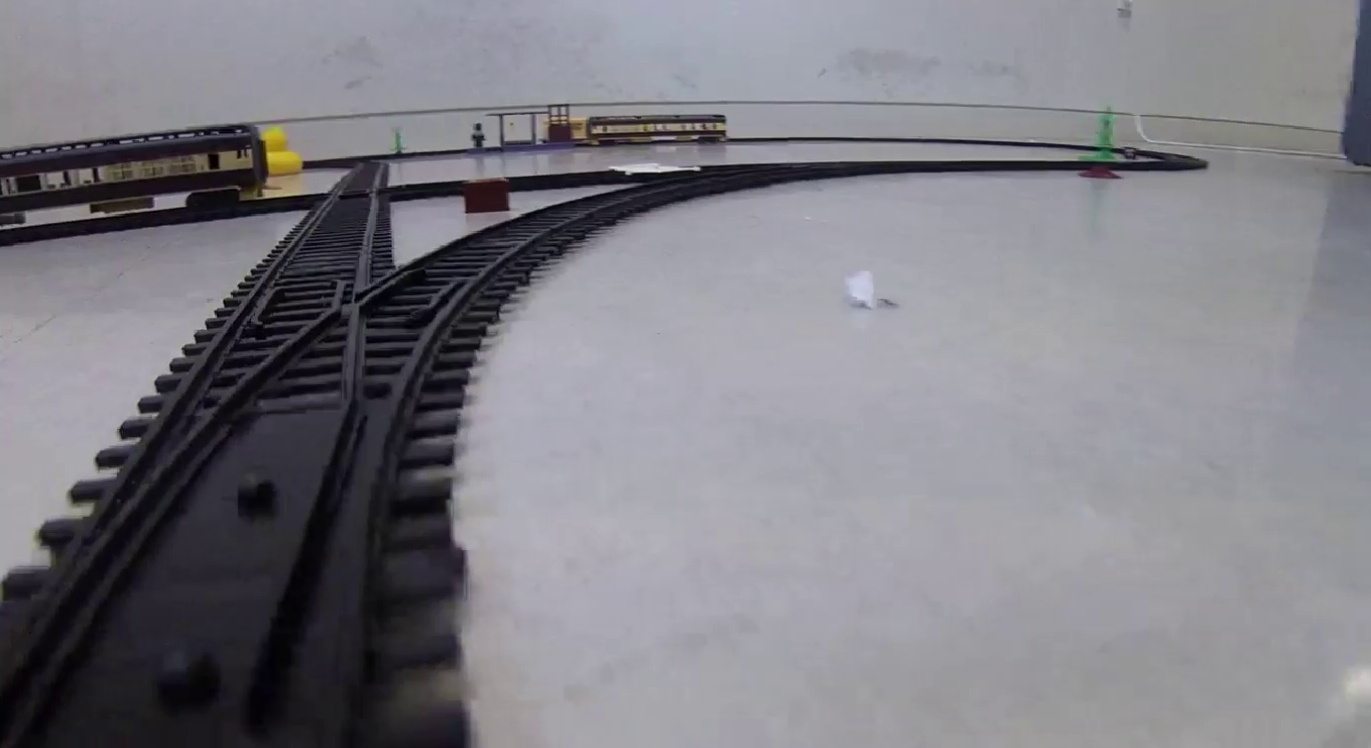box: (461, 177, 513, 212)
